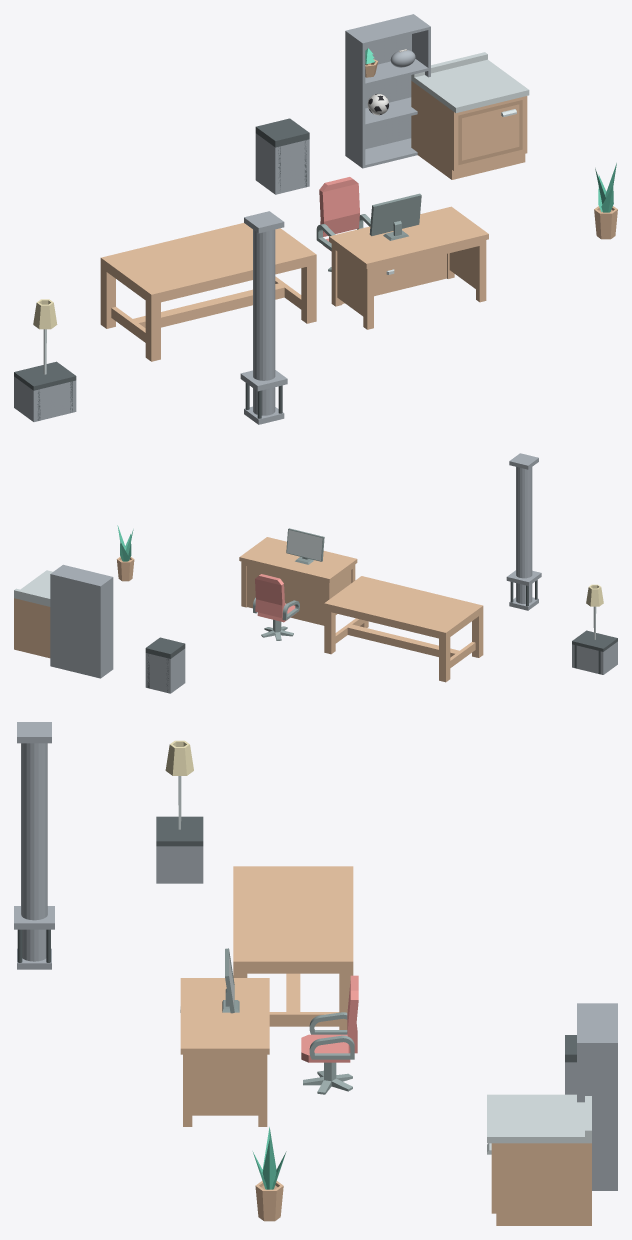
3 views of the same model, one above another, from view 1: azimuth 30°, elevation 25°; view 2: azimuth 150°, elevation 25°; view 3: azimuth 270°, elevation 25° (orthographic). The views are drawn at different scales.
Visible parts, largest first — view 1: table_green__table(Clone), desk_blue__desk(Clone), cabinet_blue__kitchenCabinet(Clone), column_cyan__column_cyan shaft, cabinet_blue__door, shelf_orange__shelf_orange back, shelf_orange__shelf_orange side_l, bin_gray__bin_gray shell, deskchair_black__chair, crate_red__crate_red shell, monitor_gray__computerScreen(Clone), shelf_orange__shelf_orange board3 (+9 smaller); view 2: table_green__table(Clone), desk_blue__desk(Clone), shelf_orange__shelf_orange back, cabinet_blue__kitchenCabinet(Clone), column_cyan__column_cyan shaft, deskchair_black__chair, bin_gray__bin_gray shell, shelf_orange__shelf_orange side_l, monitor_gray__computerScreen(Clone), crate_red__crate_red shell, shelf_orange__shelf_orange board3, crate_red__crate_red lid (+4 smaller); view 3: table_green__table(Clone), cabinet_blue__kitchenCabinet(Clone), desk_blue__desk(Clone), column_cyan__column_cyan shaft, shelf_orange__shelf_orange side_r, deskchair_black__chair, crate_red__crate_red shell, shelf_orange__shelf_orange board3, crate_red__crate_red lid, lamp_white__lampRoundFloor(Clone), plant_pink__pottedPlant(Clone), deskchair_black__chairDesk(Clone) (+2 smaller).
Part boxes in pixels (x1,y1,x2,y2): table_green__table(Clone): (100,223,316,361); desk_blue__desk(Clone): (329,206,488,329); cabinet_blue__kitchenCabinet(Clone): (411,52,529,179); column_cyan__column_cyan shaft: (253,229,275,415); cabinet_blue__door: (458,100,522,164); shelf_orange__shelf_orange back: (348,15,411,149); shelf_orange__shelf_orange side_l: (345,30,365,168); bin_gray__bin_gray shell: (255,133,309,194); deskchair_black__chair: (316,177,370,251); crate_red__crate_red shell: (14,376,76,421); monitor_gray__computerScreen(Clone): (369,193,421,240); shelf_orange__shelf_orange board3: (349,15,428,45); table_green__table(Clone): (324,576,483,682); desk_blue__desk(Clone): (239,537,357,625); shelf_orange__shelf_orange back: (52,574,98,677); cabinet_blue__kitchenCabinet(Clone): (14,570,52,658); column_cyan__column_cyan shaft: (516,467,532,603); deskchair_black__chair: (253,574,299,622); bin_gray__bin_gray shell: (145,648,185,693); shelf_orange__shelf_orange side_l: (99,576,113,678); monitor_gray__computerScreen(Clone): (286,528,324,564); crate_red__crate_red shell: (572,641,617,674); shelf_orange__shelf_orange board3: (53,565,111,585); crate_red__crate_red lid: (572,630,617,651); table_green__table(Clone): (233,866,353,1029); cabinet_blue__kitchenCabinet(Clone): (487,1094,591,1225); desk_blue__desk(Clone): (180,978,269,1126); column_cyan__column_cyan shaft: (21,743,47,961); shelf_orange__shelf_orange side_r: (577,1041,617,1190); deskchair_black__chair: (301,975,358,1062); crate_red__crate_red shell: (156,846,203,883); shelf_orange__shelf_orange board3: (577,1005,615,1041); crate_red__crate_red lid: (156,816,203,846); lamp_white__lampRoundFloor(Clone): (165,740,193,829); plant_pink__pottedPlant(Clone): (255,1180,283,1221); deskchair_black__chairDesk(Clone): (303,1062,352,1094).
Size of the model in its own units: 7.43 by 2.2 by 5.17.
